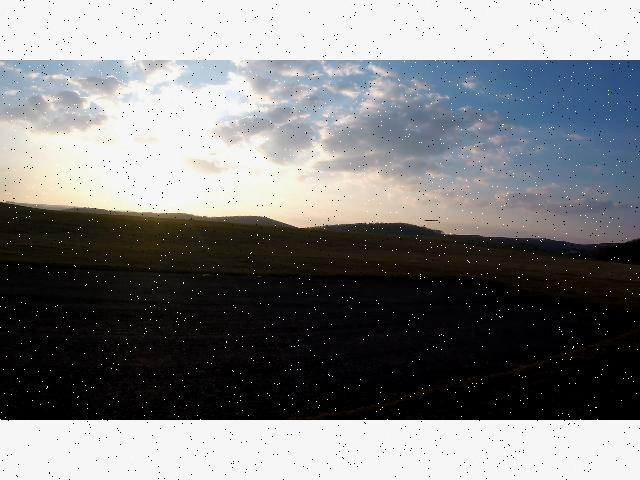Anti-Drone: (424, 219, 438, 221)
